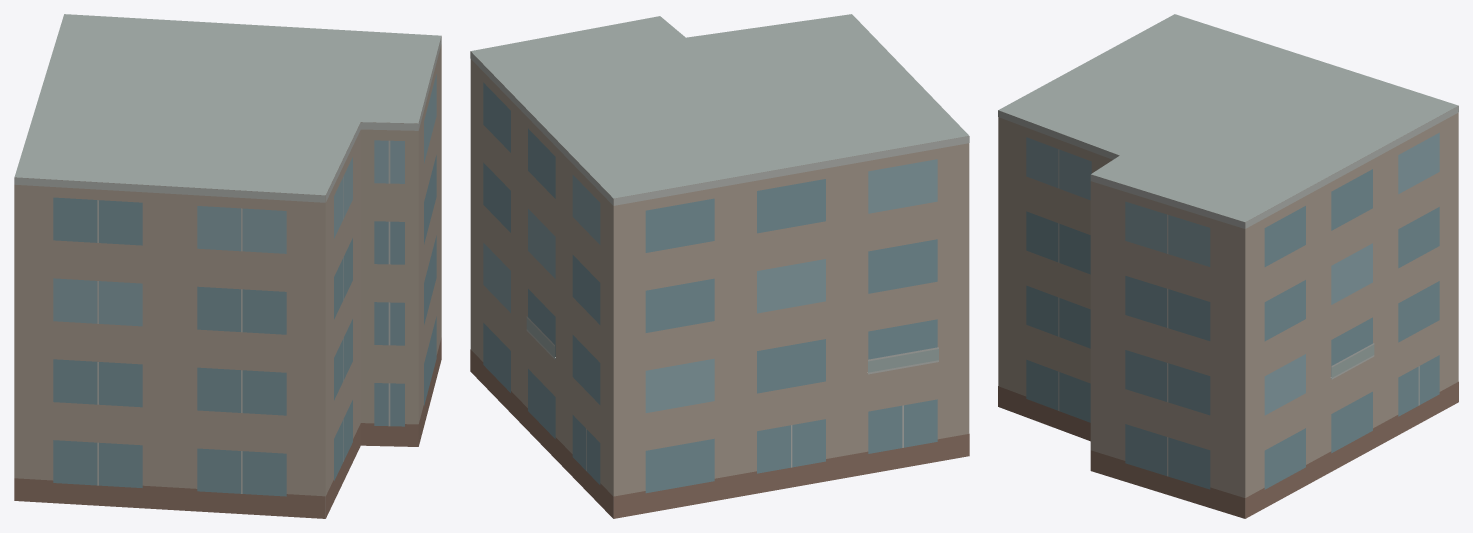
Rendered from survey-upis-33038103.glb.
3 renders of one model, left to right at view 1: azimuth 30°, elevation 25°; view 2: azimuth 150°, elevation 25°; view 3: azimuth 270°, elevation 25°, orthographic. The views are drawn at different scales.
Visible parts, largest first — view 1: survey-upis-33038103.tmp; view 2: survey-upis-33038103.tmp; view 3: survey-upis-33038103.tmp.
Boxes of the visible parts, left/top/right/bottom form: survey-upis-33038103.tmp: left=14, top=14, right=441, bottom=518; survey-upis-33038103.tmp: left=470, top=14, right=969, bottom=518; survey-upis-33038103.tmp: left=998, top=14, right=1458, bottom=518.
Size of the model in its own units: 15.97 by 10.6 by 14.93.
